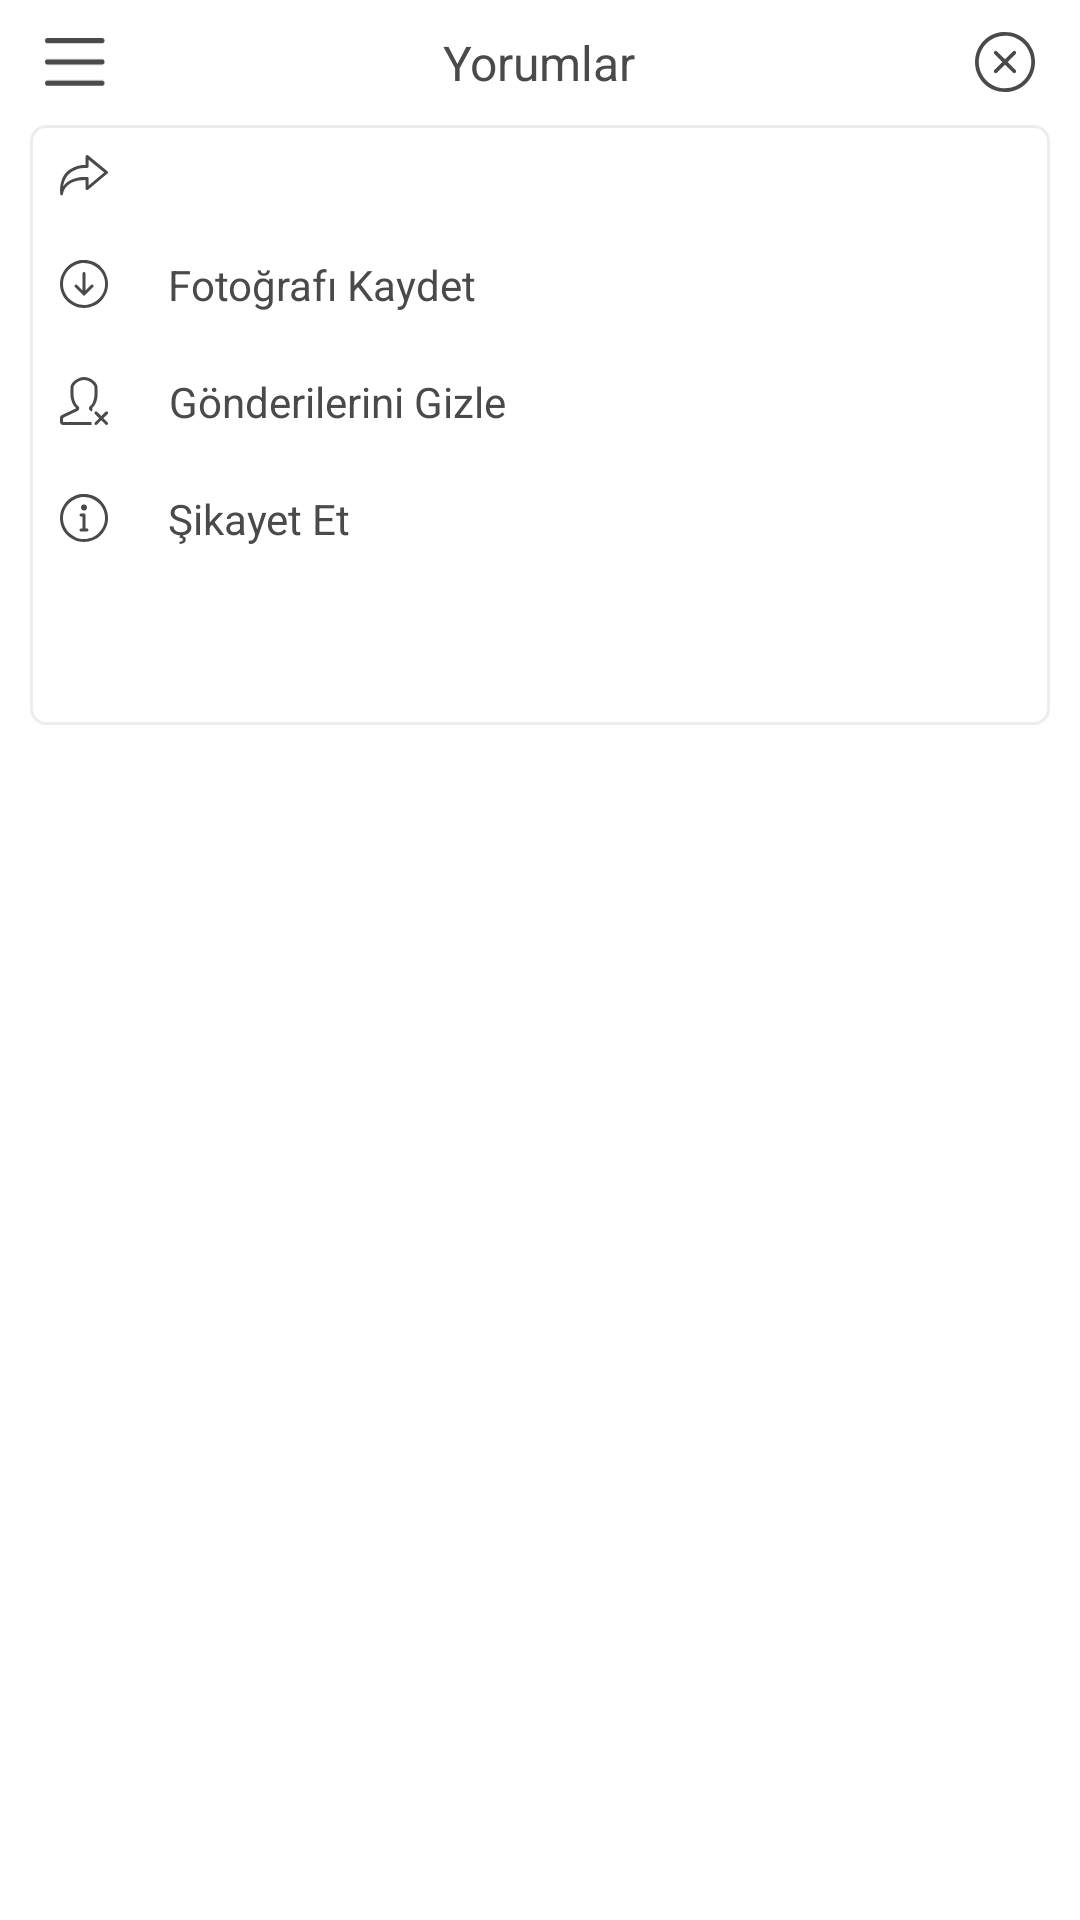

Icons on this 1080x1920 Android screen, each with its box as [x1, y1, x2, y2]:
menu: [45, 38, 105, 86]
options exit: [975, 32, 1035, 92]
photo save: [60, 260, 108, 308]
share: [60, 155, 108, 196]
user post hide: [60, 377, 108, 425]
